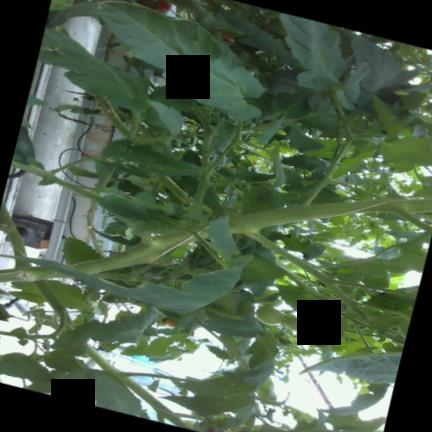6kp_petiole: (111, 215, 194, 268), (227, 211, 293, 260), (273, 183, 343, 222), (362, 199, 431, 232), (98, 362, 154, 396)
MainStem: (84, 343, 192, 428), (227, 198, 432, 233), (68, 230, 197, 273), (0, 201, 25, 257), (0, 266, 71, 282), (86, 201, 105, 257)
tomato: (255, 306, 284, 325), (258, 289, 282, 307), (282, 316, 307, 331), (307, 317, 326, 335)
